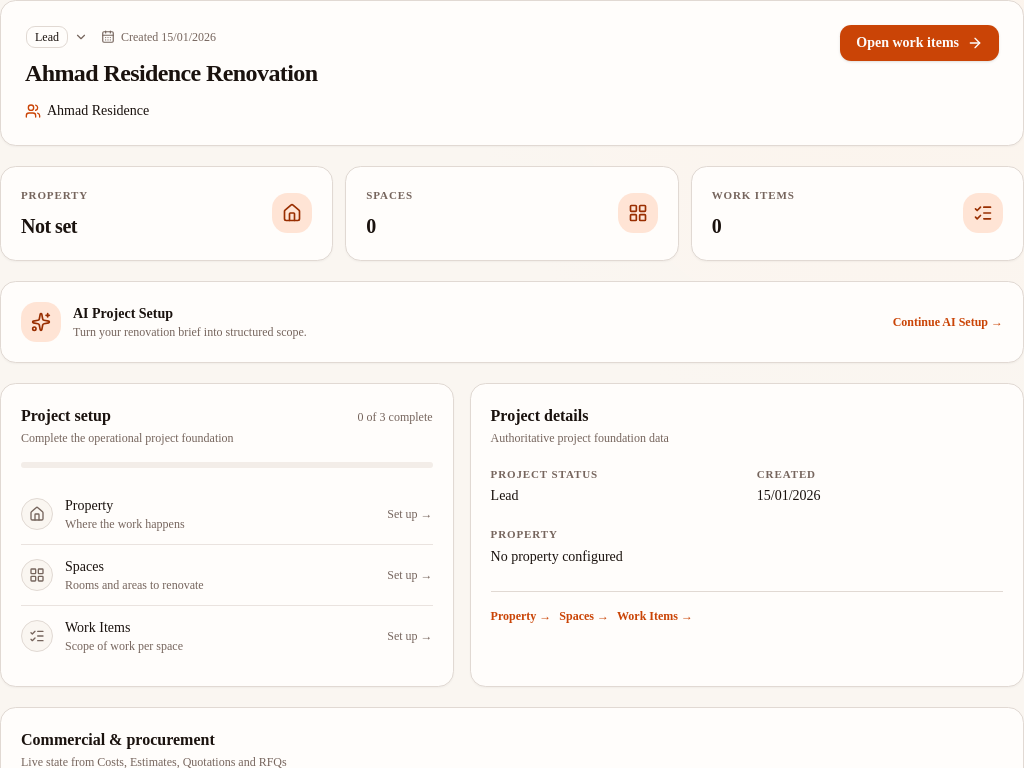
ProjectOverview › keeps the dialog open and shows the backend rejection message
Click the button with aria-label "change project status, current status lead": (57, 37) [25,25,89,49]
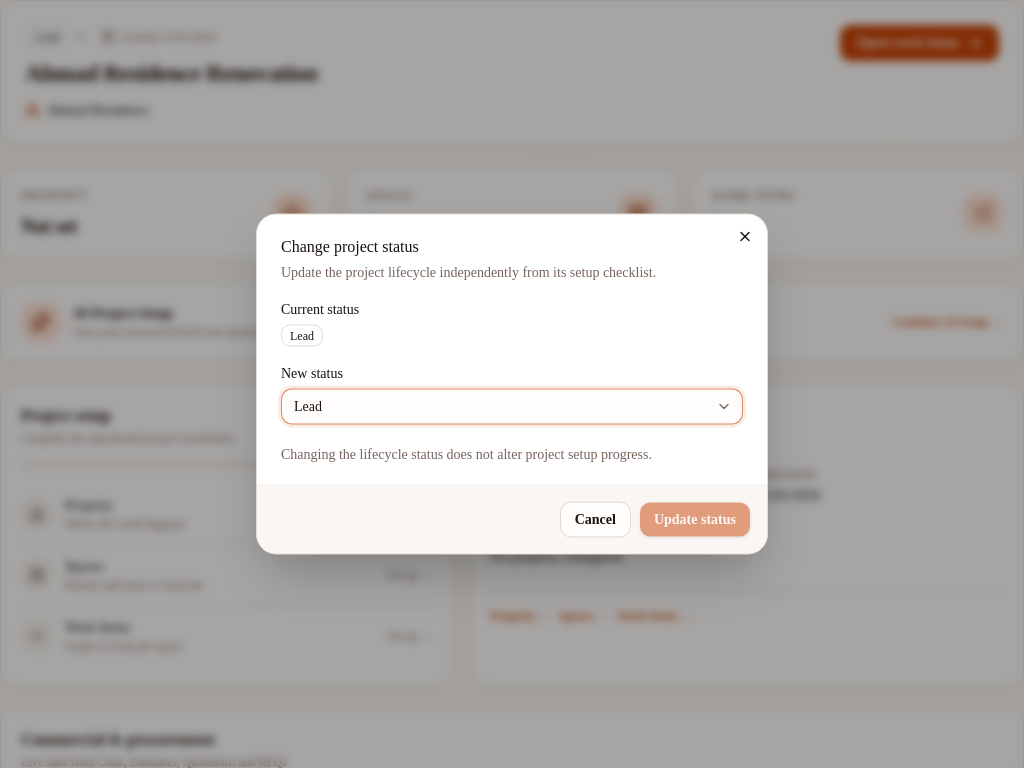
Click the dropdown named "New status": (308, 406) [281,388,743,424]
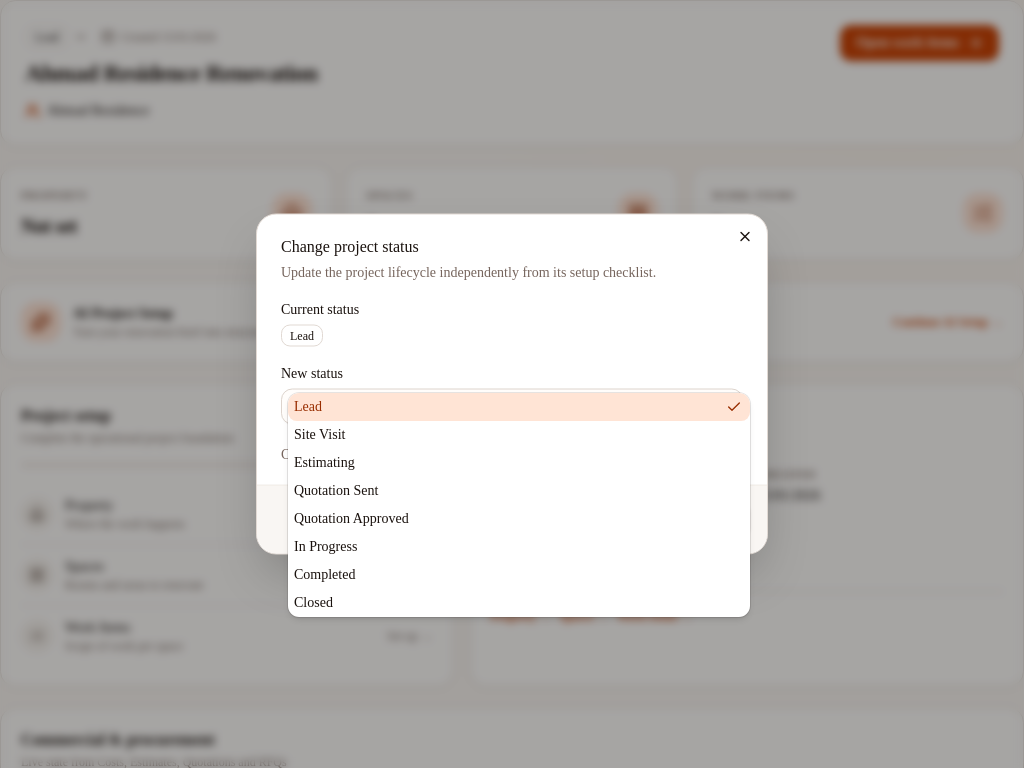
Click the option "Closed": (313, 602) [294,594,333,610]
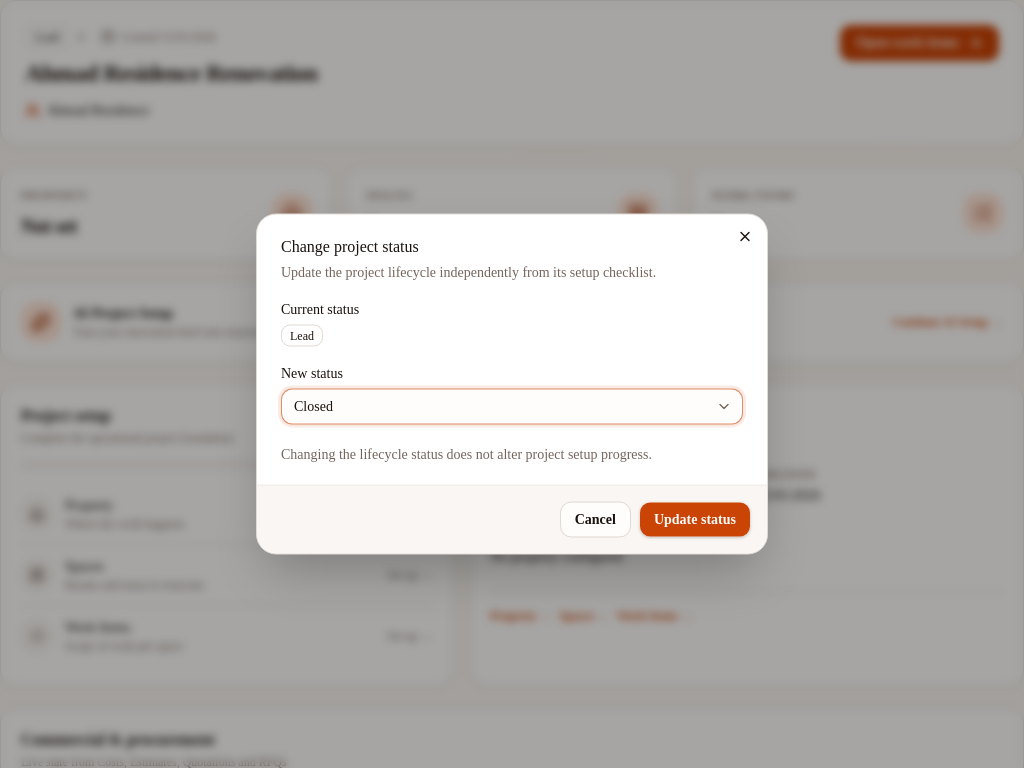
Click the button "Update status": (695, 520) [639,502,751,538]
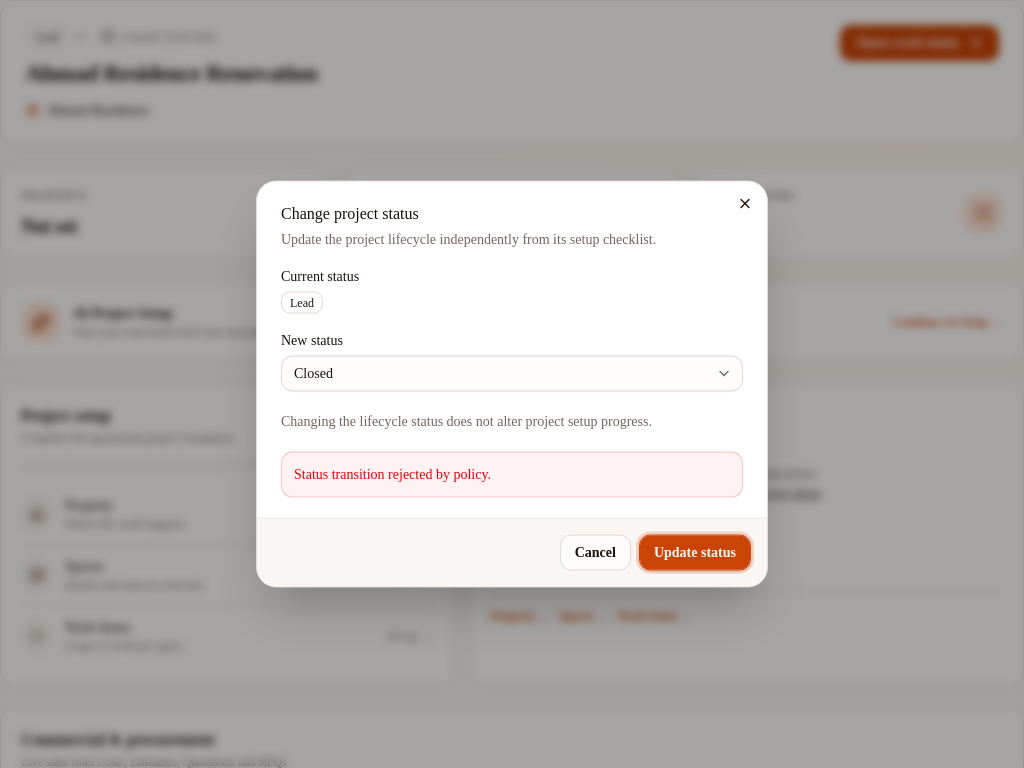
Result: the heading "Change project status" is shown at [281,204,419,222]
Result: the dropdown named "New status" shows "Closed" at [281,356,743,392]
Result: the message reads "Status transition rejected by policy." at [294,466,491,482]
